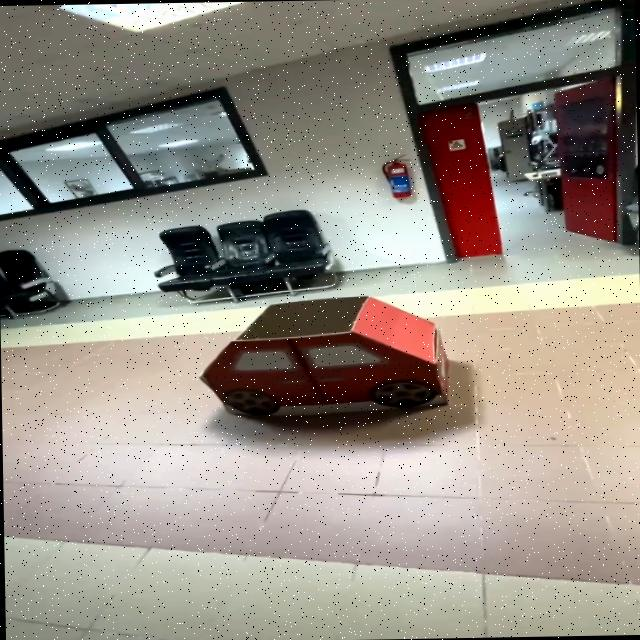red_car: (146, 289, 484, 430)
